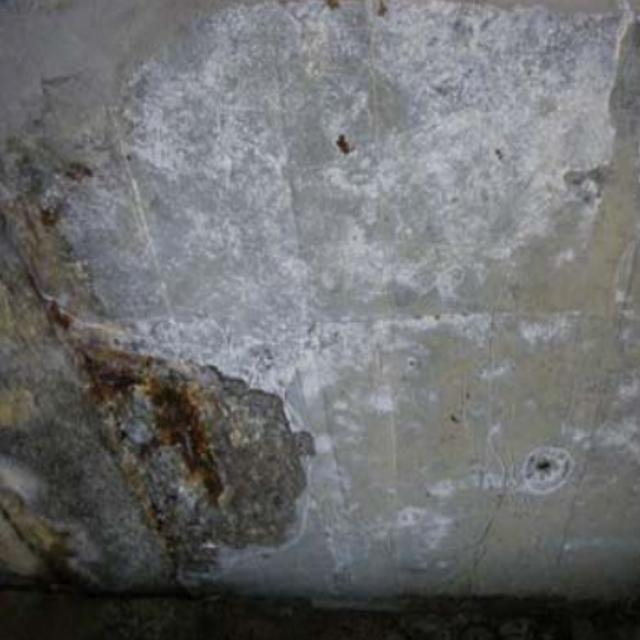spalling: (13, 127, 311, 597)
